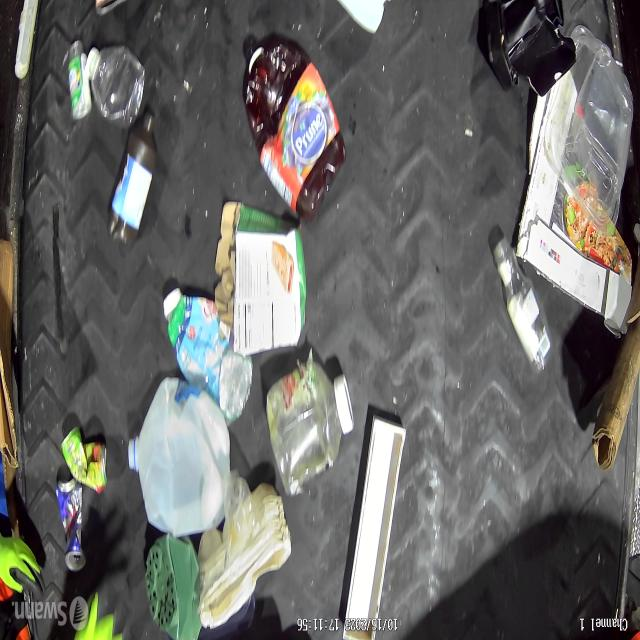can: (61, 424, 106, 496), (56, 480, 90, 572)
milk_jug: (128, 383, 222, 532)
plastic_bottle: (244, 38, 346, 217), (494, 236, 553, 383), (84, 44, 144, 134)
